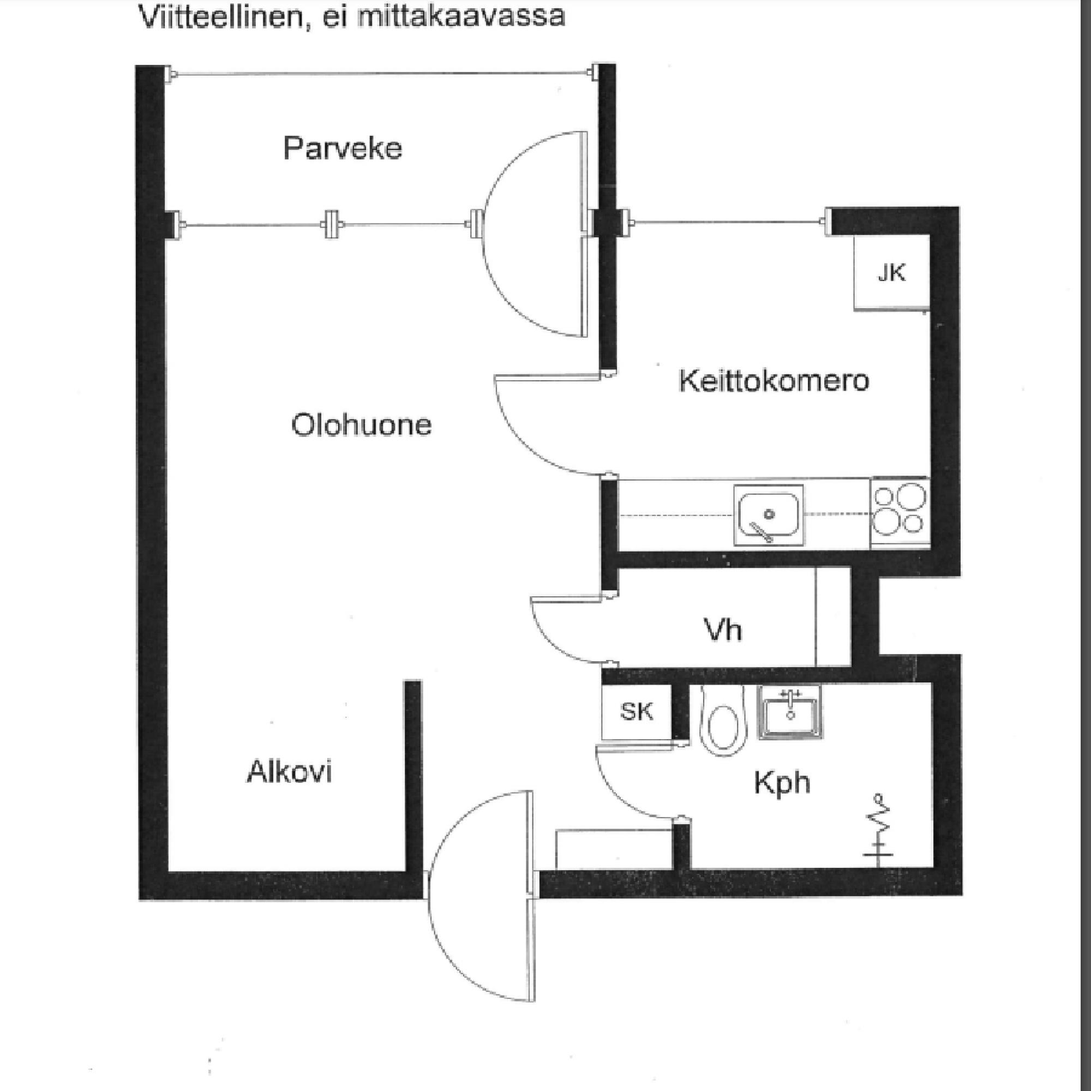wall: (137, 208, 960, 237), (137, 871, 960, 897), (137, 208, 167, 897), (929, 209, 959, 575), (599, 209, 618, 684), (137, 65, 617, 83), (932, 654, 960, 896), (600, 666, 852, 684), (672, 666, 691, 896), (600, 550, 852, 567), (136, 65, 164, 208), (404, 680, 422, 897), (852, 550, 877, 683), (852, 654, 960, 684), (852, 549, 960, 575), (599, 64, 618, 208)
